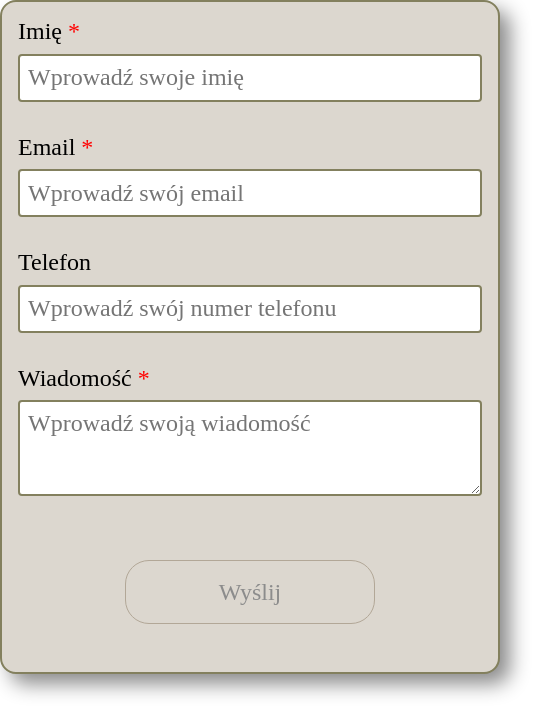
Test: ContactForm › should enable submit button when all fields are valid
Type "John Doe" into the field labelled "Imię *". click: (250, 78)
box: [18,54,482,102]
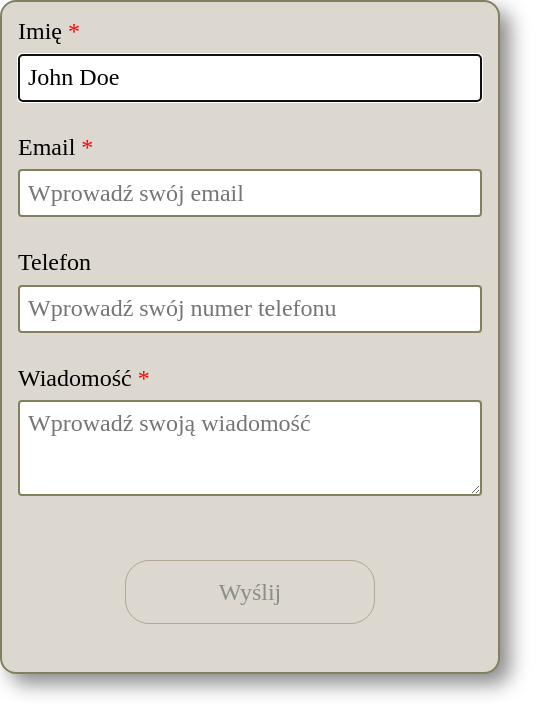
Type "test@test.com" into the field labelled "Email *". click: (250, 193)
box: [18,169,482,217]
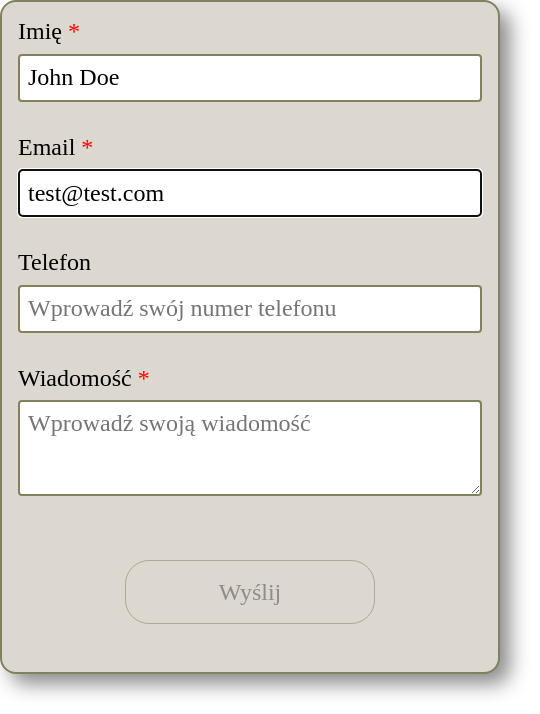
Type "123456789" into the field labelled "Telefon". click: (250, 309)
box: [18,285,482,333]
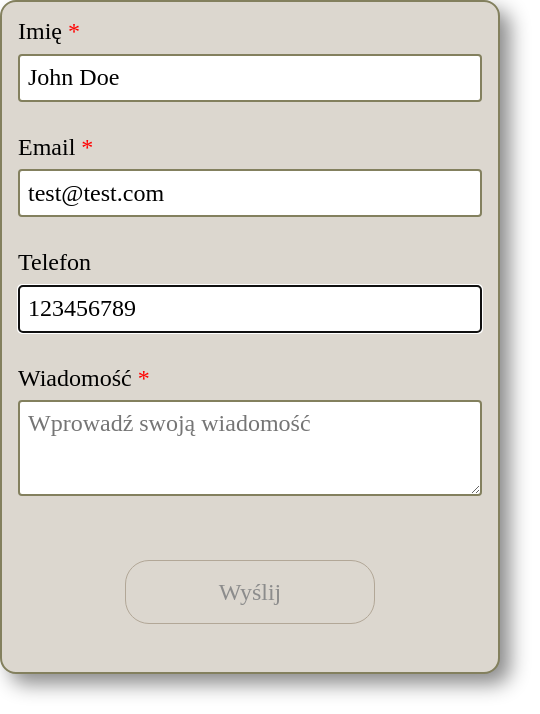
Type "Hello World" into the text box labelled "Wiadomość *". click: (250, 448)
box: [18,400,482,496]
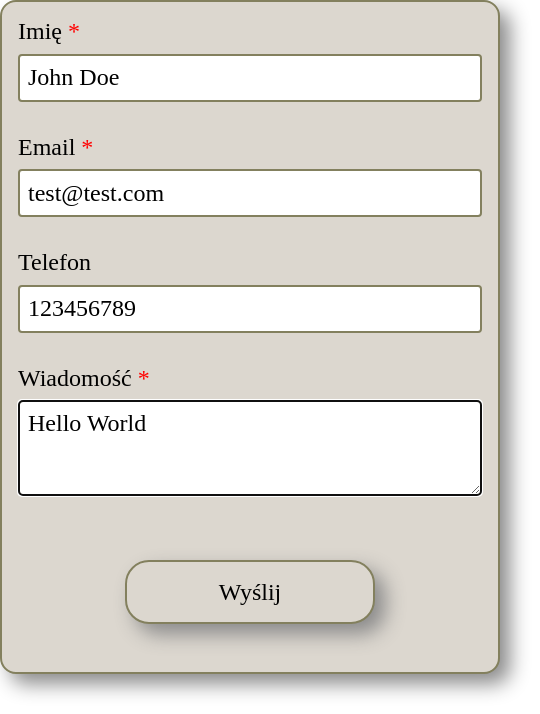
Now the button "Wyślij" is enabled, box [125,560,375,624]
